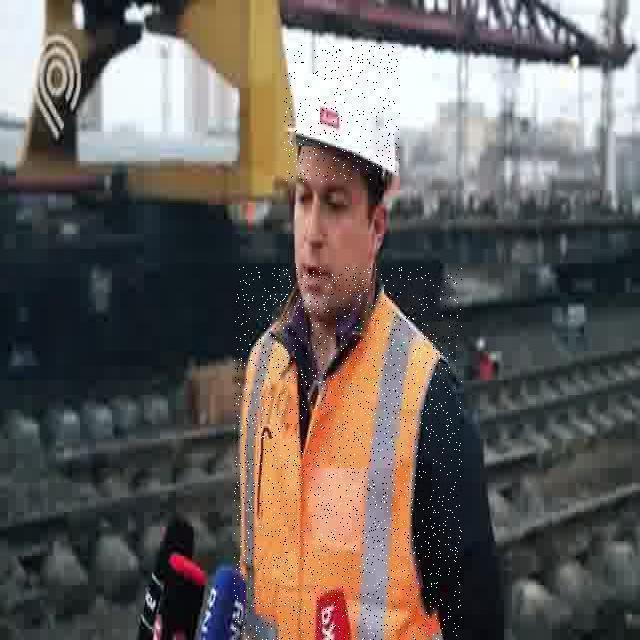helmet: (284, 45, 400, 182)
safety_vest: (234, 267, 462, 640)
